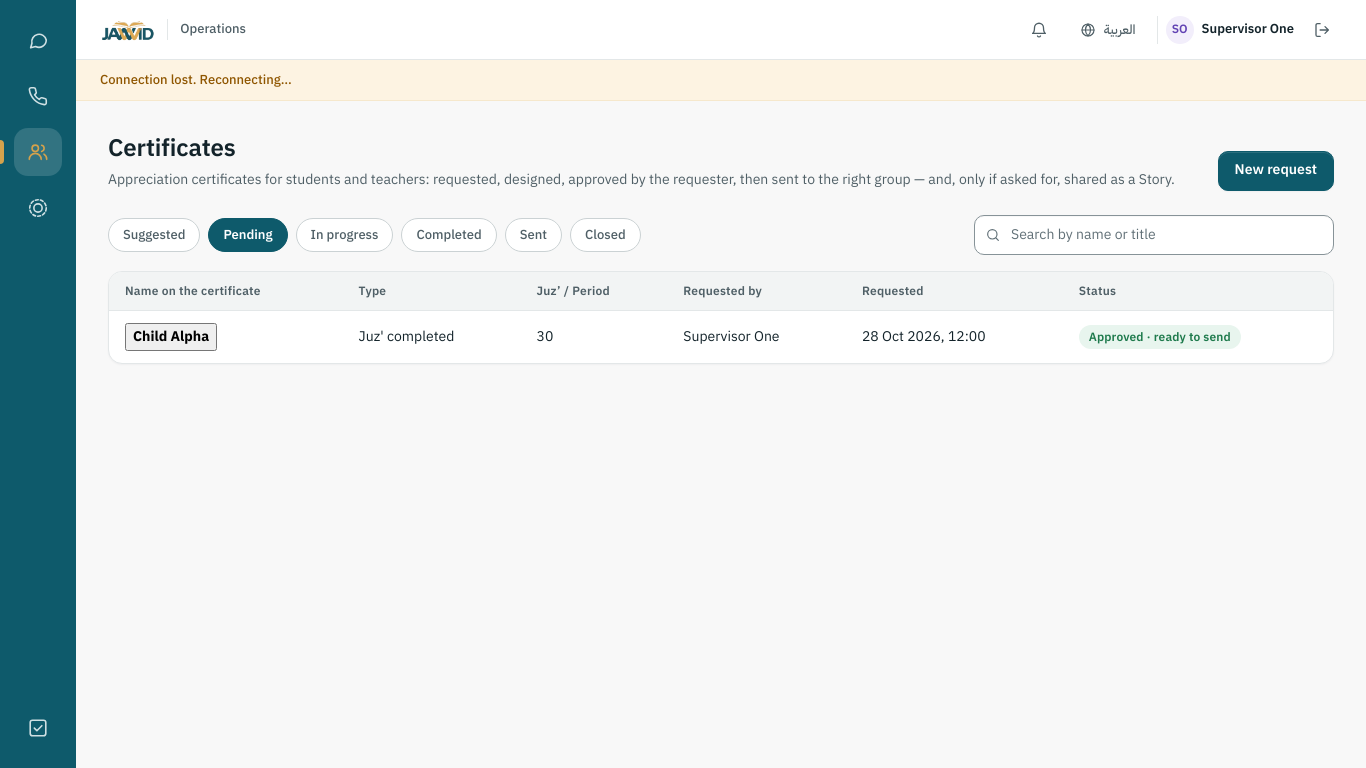
Scenario: the requester › send names the group first, echoes it, and says so when the group changed
Click the button "Child Alpha". click: (171, 337)
box: [125,323,217,351]
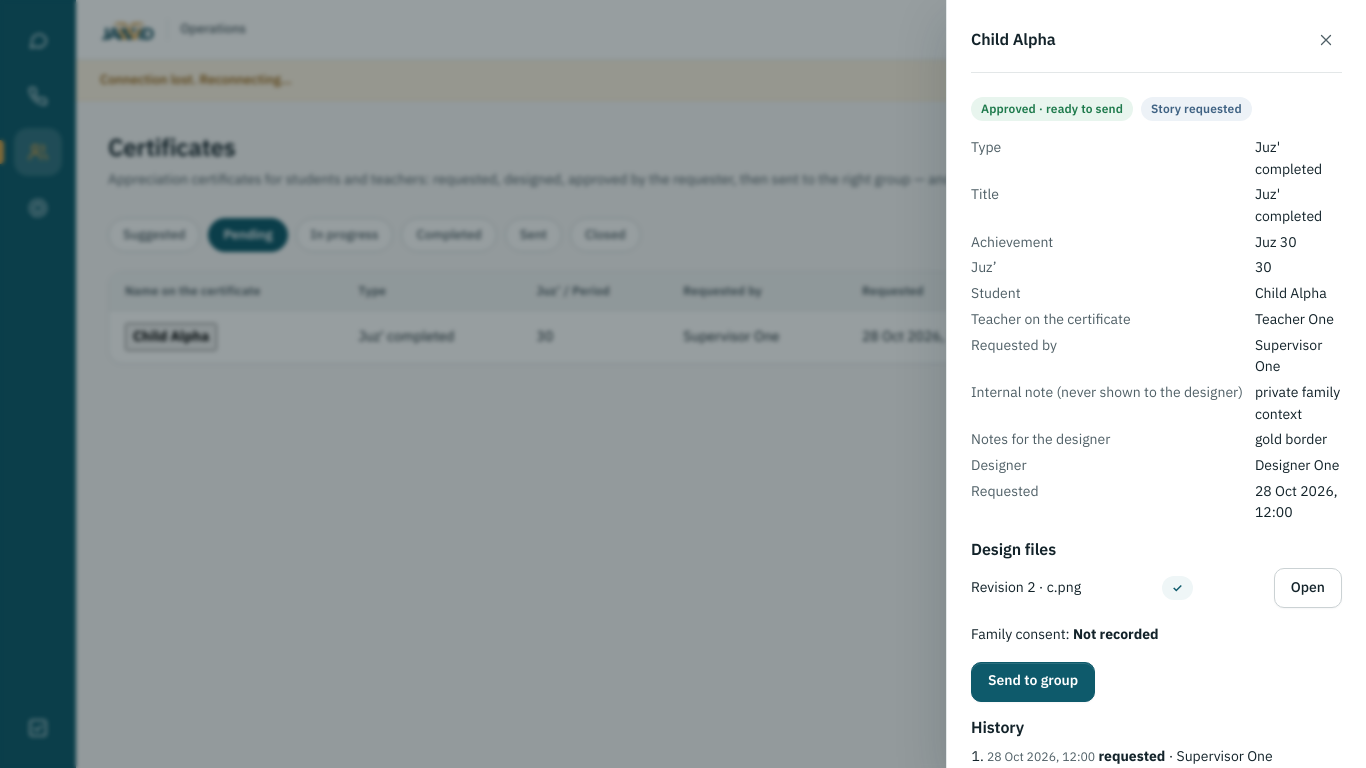
Click the button "Send to group". click: (1033, 682)
box: [971,662,1095,702]
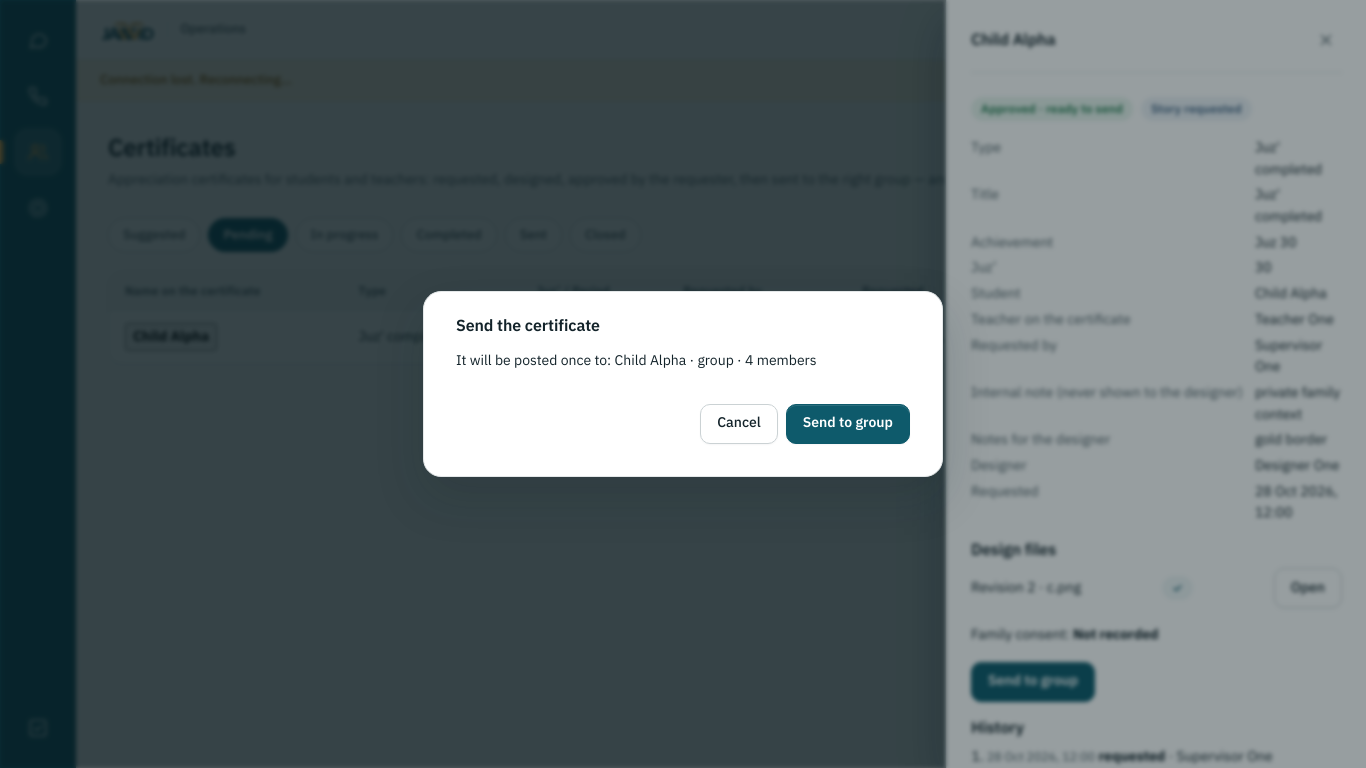
Now the text "It will be posted once to: Child Alpha · group · 4 members" is shown, box [456,350,817,371]
Click the button "Send to group". click: (848, 424)
box: [786,404,910,444]
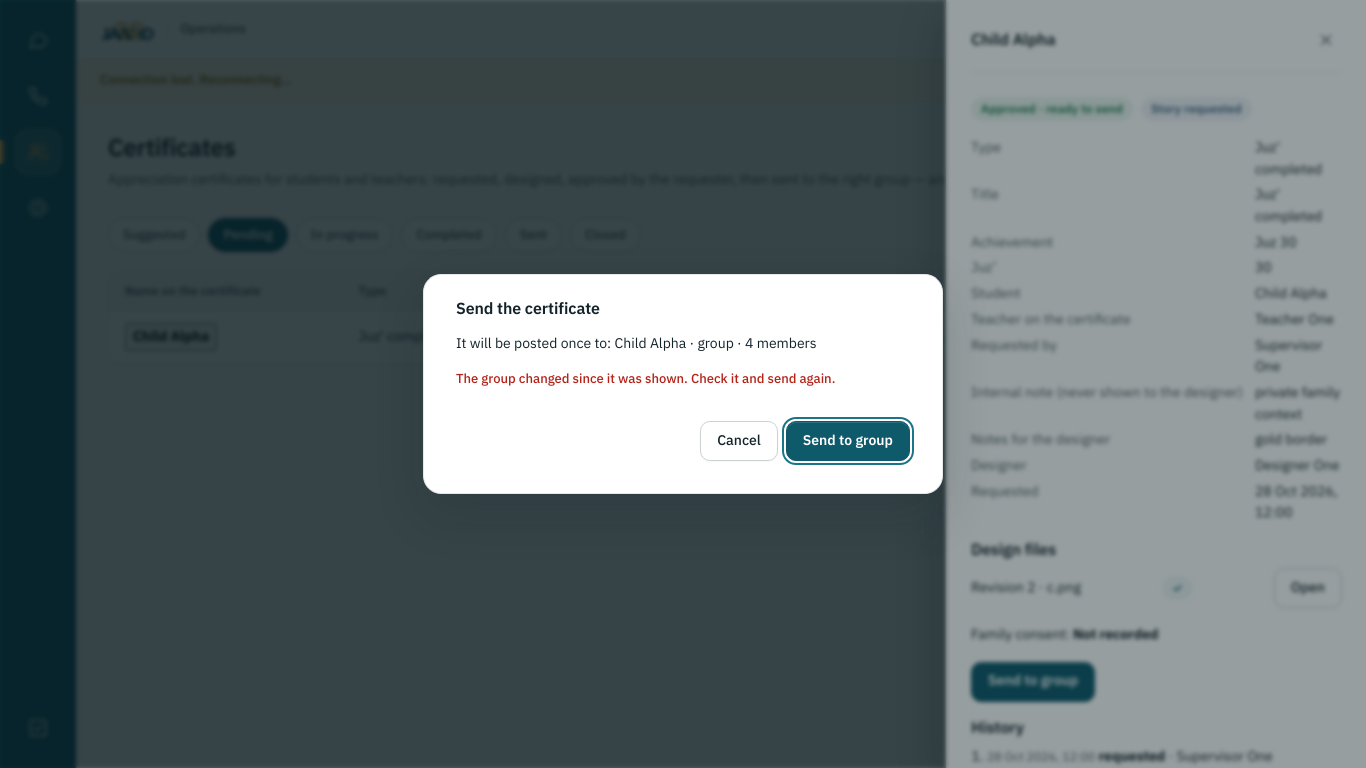
Now the text "The group changed since it was shown. Check it and send again." is shown, box [456,369,835,388]
